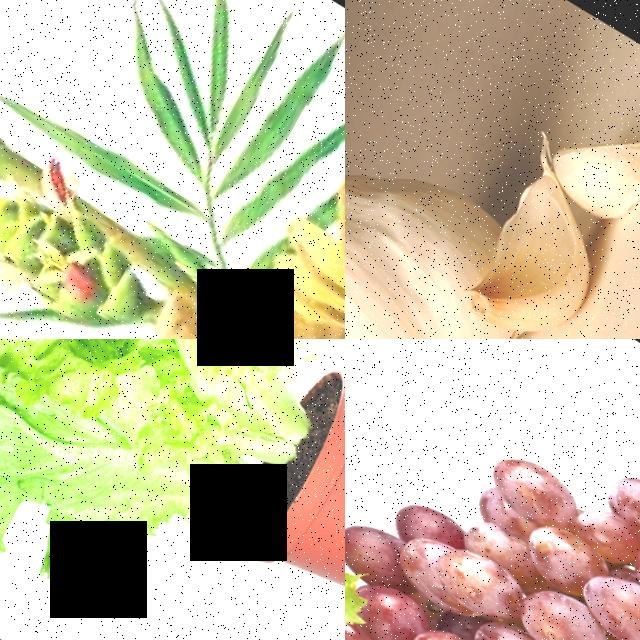garlic: (345, 35, 511, 339), (447, 166, 622, 339), (530, 64, 640, 228)
ginger: (59, 275, 345, 339)
grapes: (345, 339, 640, 640)
lettuce: (0, 339, 345, 640)
